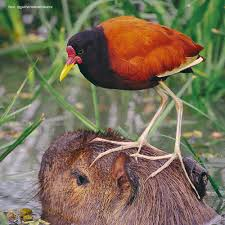capivara: (38, 127, 225, 225)
